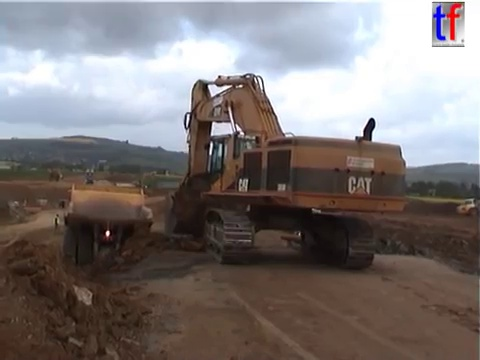excavator: (161, 70, 408, 272)
truck: (58, 182, 155, 267), (277, 197, 344, 265), (454, 197, 480, 218), (156, 180, 188, 192), (46, 166, 62, 181)
worker: (51, 211, 61, 235)
